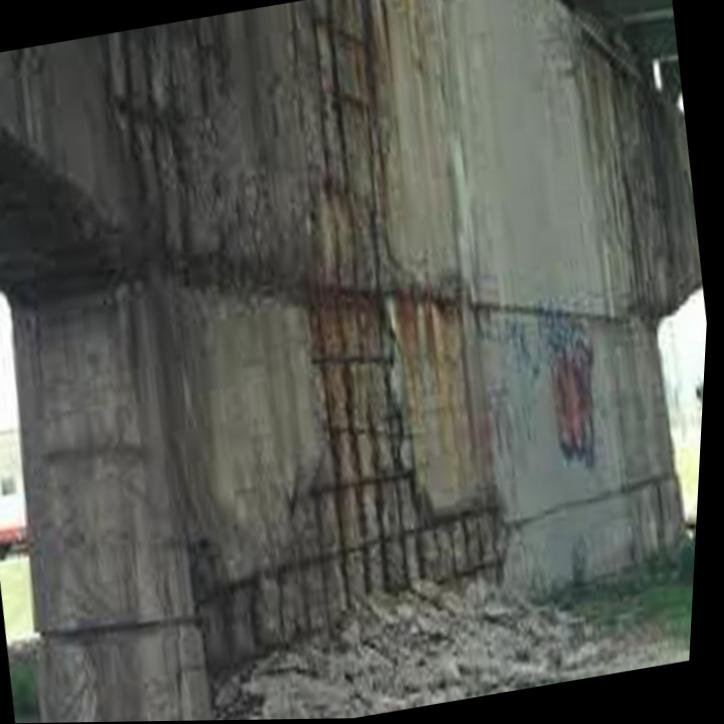crack: (440, 0, 453, 8)
damage: (202, 0, 501, 661), (107, 16, 239, 259)
